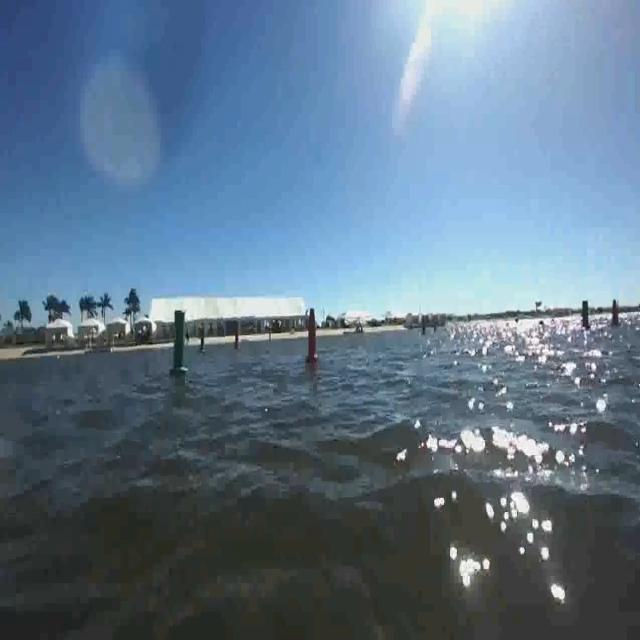green-column-buoy: (170, 306, 190, 376), (578, 298, 592, 330), (199, 327, 208, 354)
red-column-buoy: (305, 308, 321, 364), (612, 298, 622, 326), (235, 329, 242, 352)
